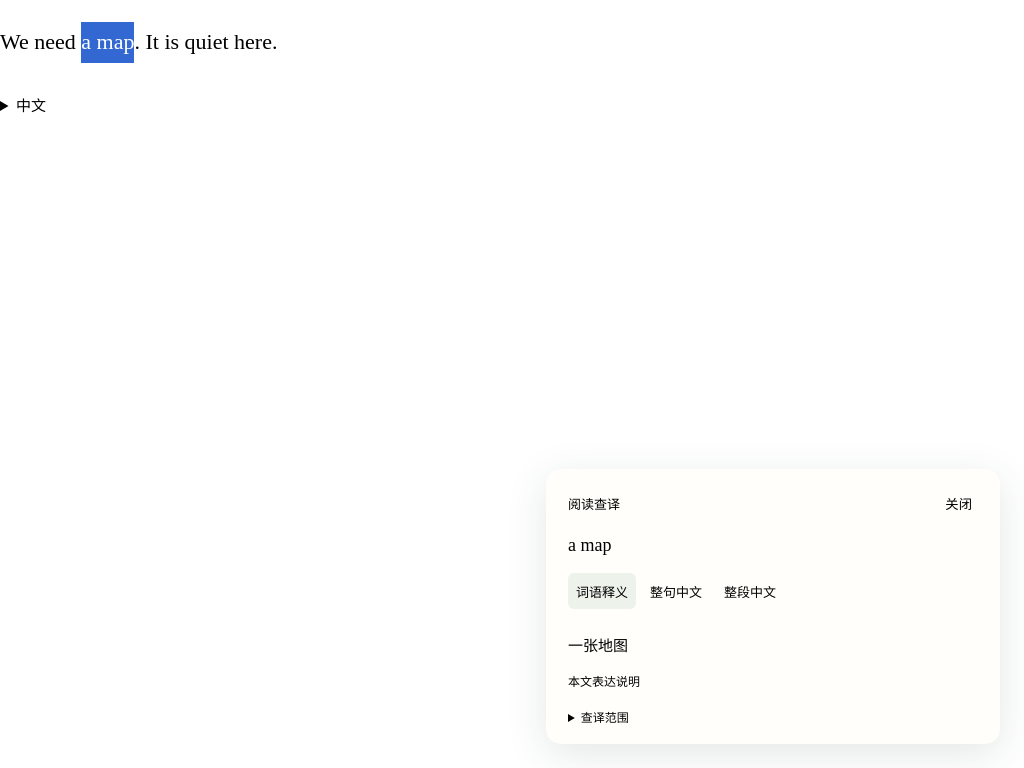
Test case: finds local expression and explicit aligned sentence without any progress write
The width and height of the screenshot is (1024, 768).
Expected: the dialog shows "一张地图", [568, 638, 628, 654]
Click the button "整句中文" at x=676, y=591, box [642, 573, 710, 609]
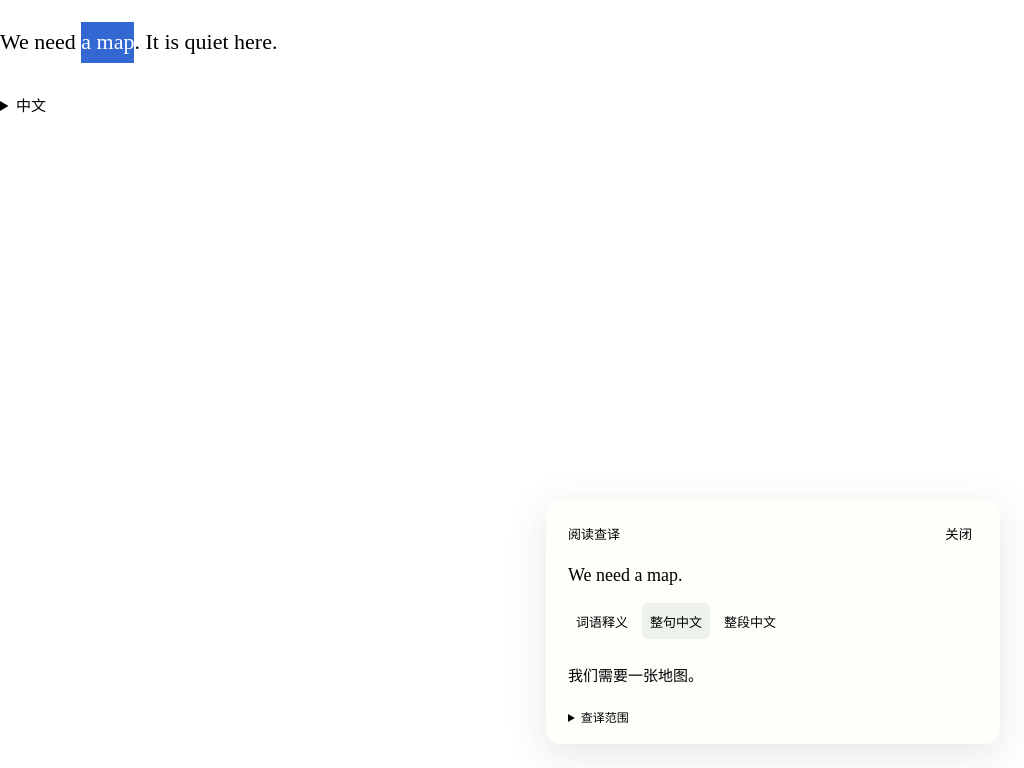
Now the text with class "doli-lookup-meaning" reads "我们需要一张地图。", box [568, 668, 703, 684]
Click the button "整段中文" at x=750, y=621, box [716, 603, 784, 639]
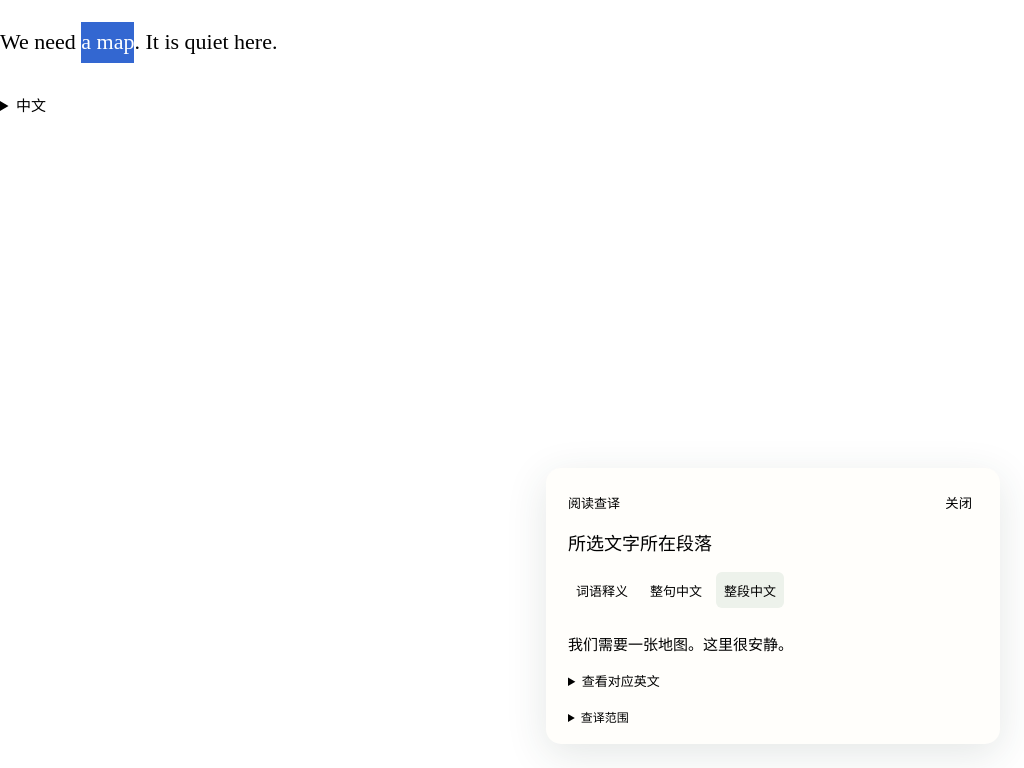
Now the text with class "doli-lookup-meaning" reads "我们需要一张地图。这里很安静。", box [568, 637, 793, 653]
